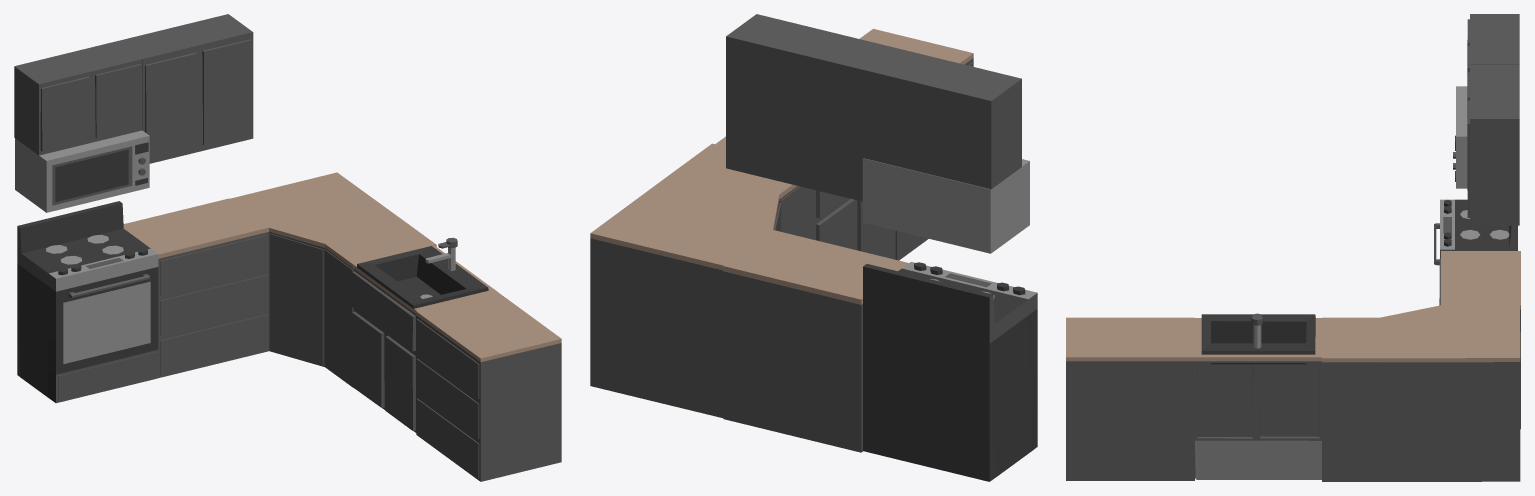
File: Kitchen_set_2.fbx
3 renders of one model, left to right at view 1: azimuth 30°, elevation 25°; view 2: azimuth 150°, elevation 25°; view 3: azimuth 270°, elevation 25°, orthographic. The views are drawn at different scales.
Parts seen in each view (by area): view 1: Kitchen_set_2; view 2: Kitchen_set_2; view 3: Kitchen_set_2.
Boxes of the visible parts, x1,y1,x2,y2 form: Kitchen_set_2: (14,14,561,481); Kitchen_set_2: (590,14,1037,481); Kitchen_set_2: (1066,14,1520,481).
Size of the model in its own units: 355 by 431 by 324.
